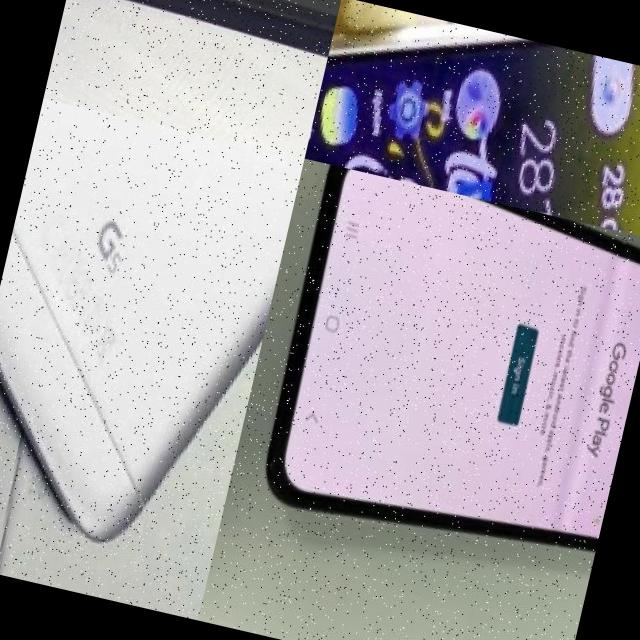dead pixel: (303, 12, 337, 96), (573, 481, 610, 545)
